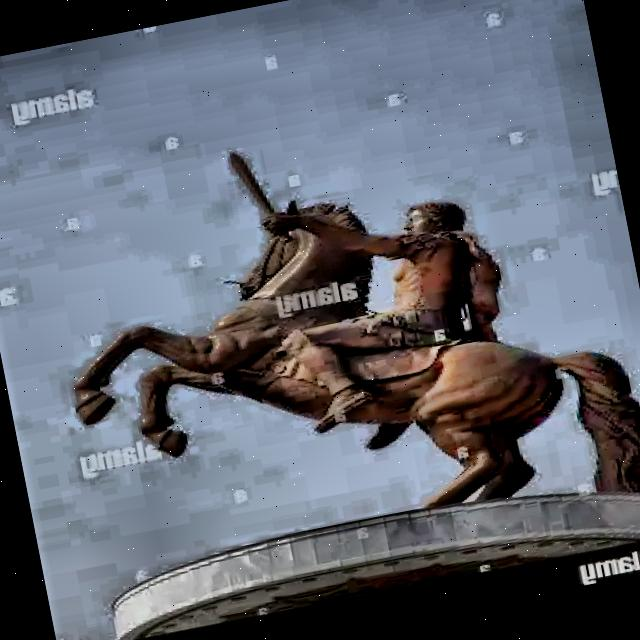alexander the great monument: (17, 83, 640, 640)
